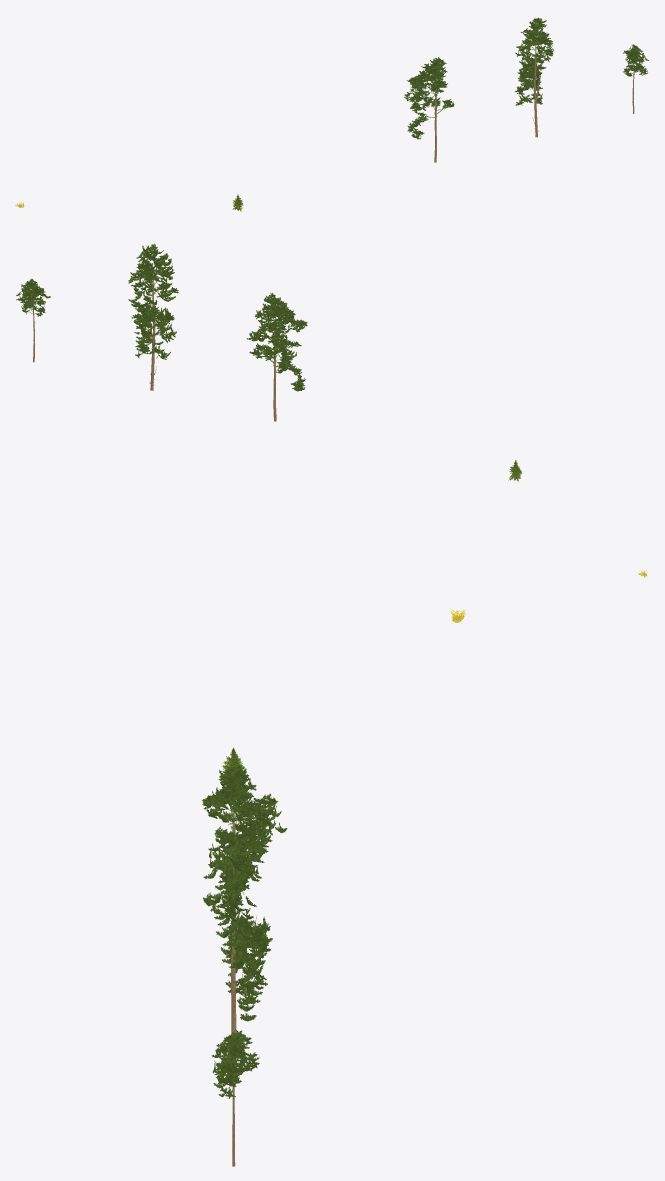
The model's file is veg.glb.
3 views of the same model, one above another, from view 1: azimuth 30°, elevation 25°; view 2: azimuth 150°, elevation 25°; view 3: azimuth 270°, elevation 25° (orthographic). The views are drawn at different scales.
Visible parts, largest first — view 1: tree_b, tree_a, tree_c; view 2: tree_b, tree_a, tree_c; view 3: tree_b, tree_a, tree_c.
Boxes of the visible parts, x1,y1,x2,y2 form: tree_b: (514,17,554,137); tree_a: (404,57,454,162); tree_c: (622,44,648,113); tree_b: (128,243,178,390); tree_a: (246,293,307,421); tree_c: (16,279,50,362); tree_b: (203,831,272,1060); tree_a: (202,765,287,921); tree_c: (211,1030,259,1166).
Bounding box in the file's own units: 145 × 29.4 × 29.62.
1 material, 1 textured.
